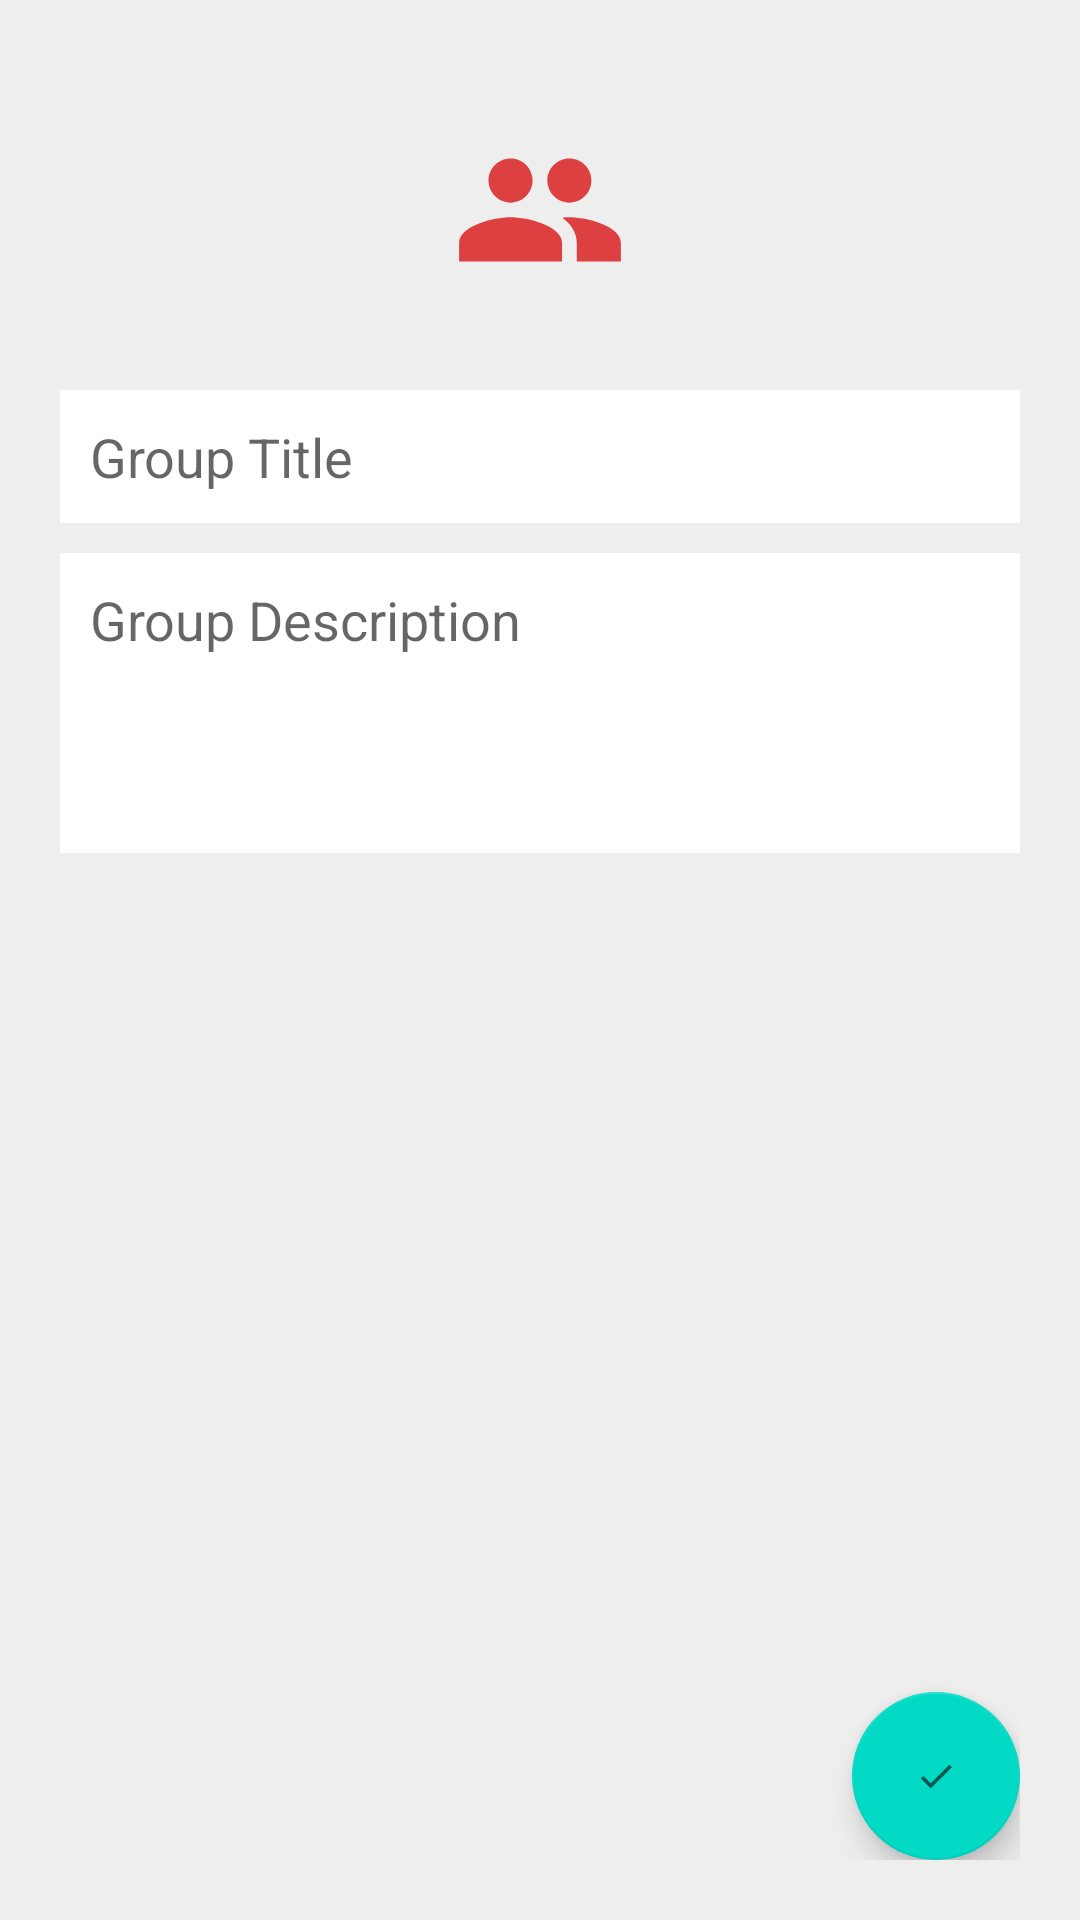

Screen size 1080×1920. Icon name, then its center in pixels as point (x, y):
done: point (936, 1776)
